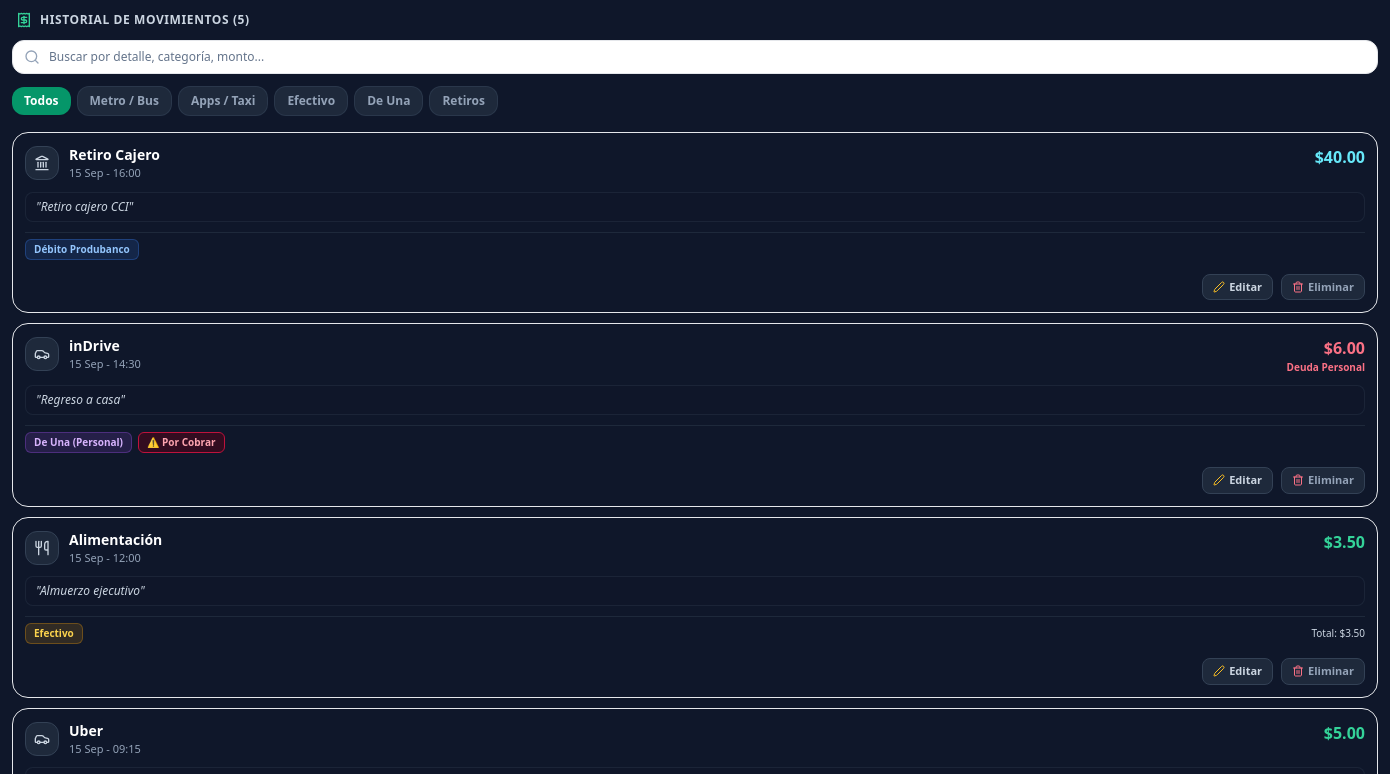
Test: TransactionHistory › filters movements by "Metro / Bus" tab
This screenshot has width=1390, height=774.
Step 1. Click the button "Metro / Bus" → (124, 101), box [76, 86, 172, 116]
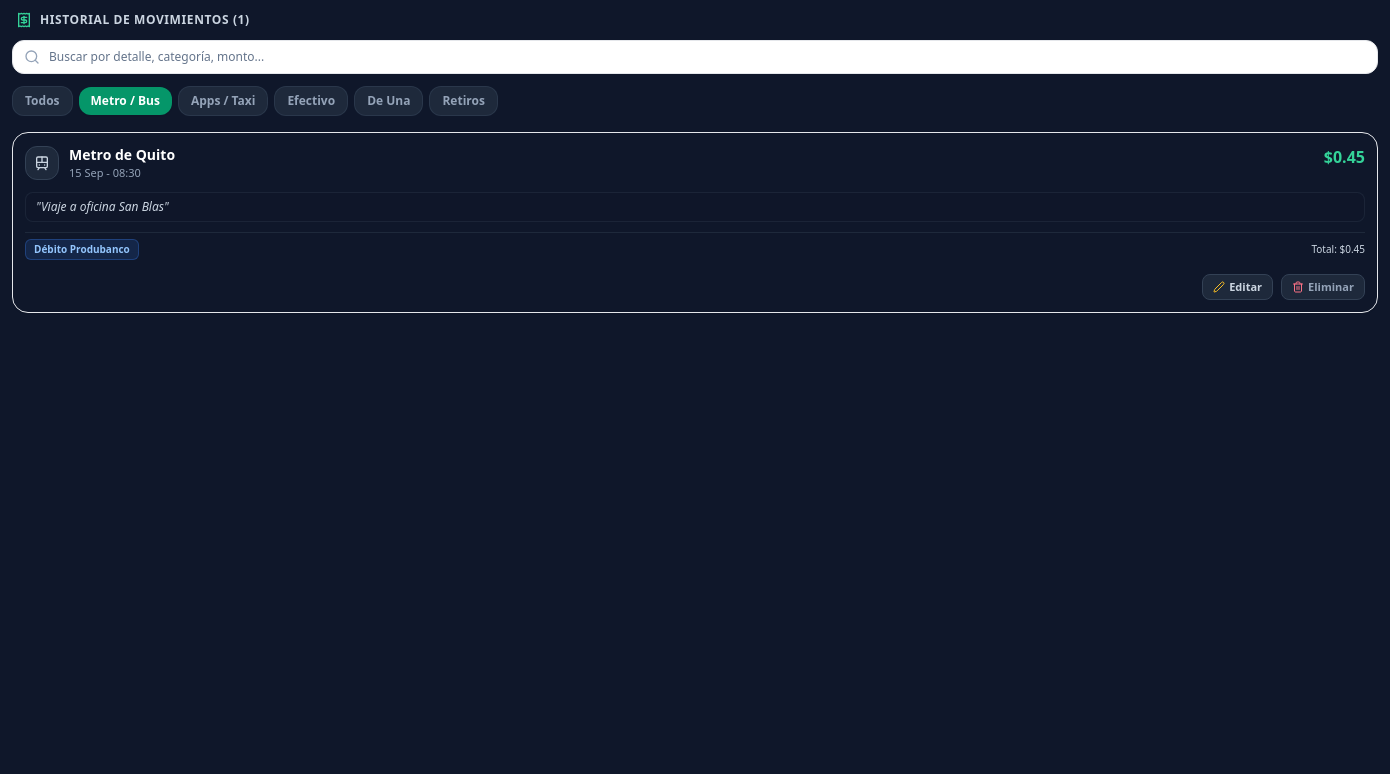
Check: the heading "Historial de Movimientos (1)" is shown, box [40, 12, 250, 28]
Check: the text "Uber" is gone
Check: the text "Retiro Cajero" is gone
